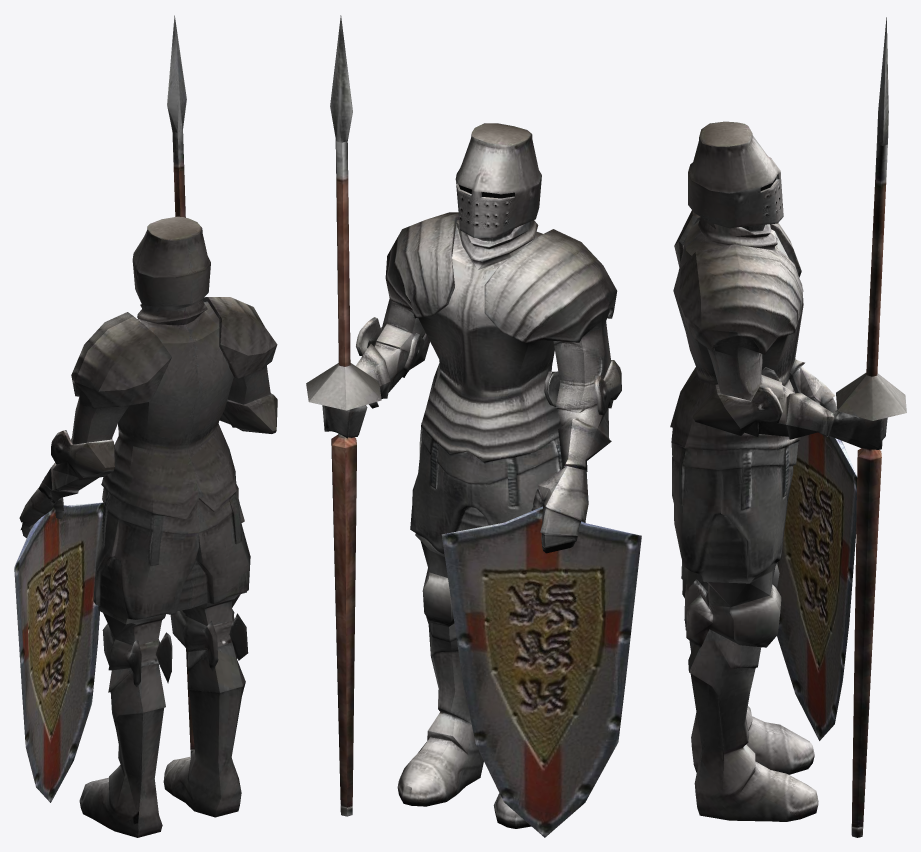
Rendered from knight.obj.
3 views of the same model, side by side, from view 1: azimuth 30°, elevation 25°; view 2: azimuth 150°, elevation 25°; view 3: azimuth 270°, elevation 25° (orthographic). The views are drawn at different scales.
Visible parts, largest first — view 1: Box04; view 2: Box04; view 3: Box04.
Boxes of the visible parts, left/top/right/bottom form: Box04: left=14, top=15, right=277, bottom=837; Box04: left=306, top=15, right=641, bottom=837; Box04: left=670, top=17, right=906, bottom=837.
Size of the model in its own units: 0.52 by 1.44 by 0.3776.
1 material, 1 textured.
